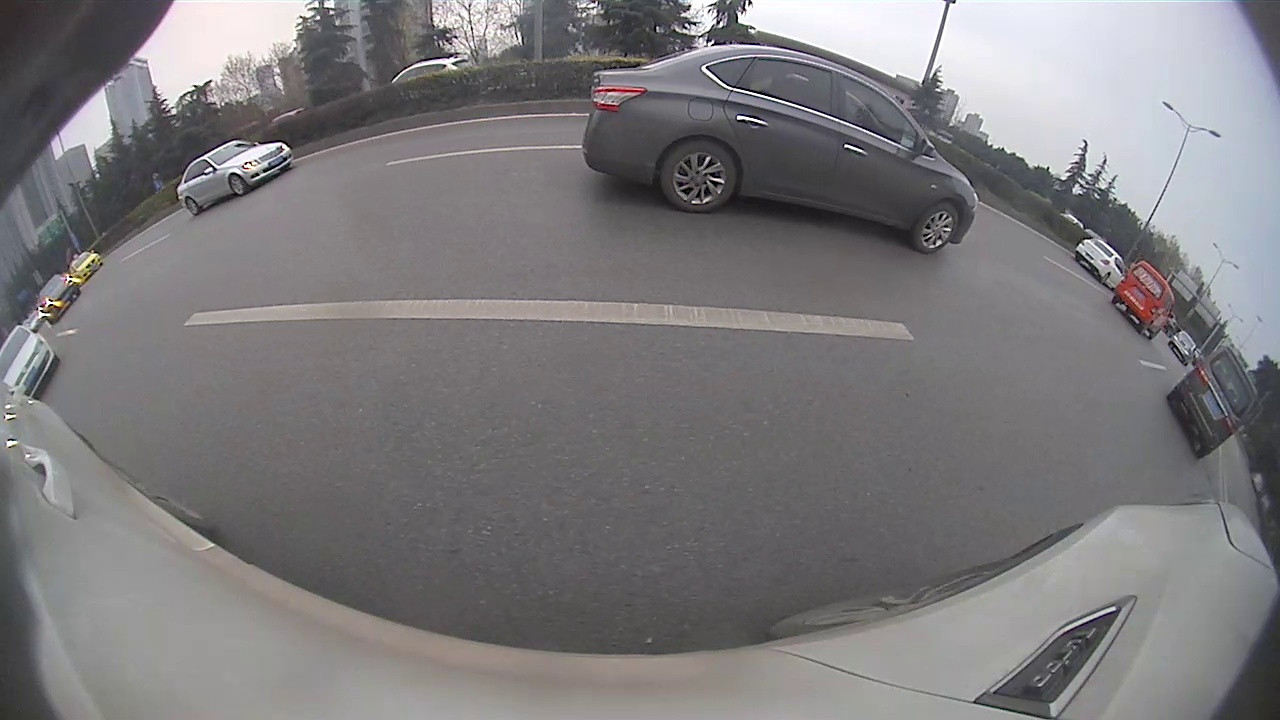car: (583, 46, 979, 255), (1169, 347, 1260, 460), (176, 140, 293, 218), (1111, 261, 1175, 338), (2, 323, 58, 399), (1074, 236, 1126, 288)
front: (911, 202, 960, 255), (228, 171, 246, 197)
rear: (659, 140, 739, 215), (184, 197, 201, 217)
